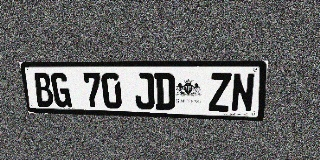0: (101, 72, 122, 109)
7: (82, 72, 103, 108)
B: (33, 72, 54, 107)
D: (154, 73, 175, 110)
G: (50, 72, 72, 107)
J: (134, 73, 155, 110)
N: (231, 73, 255, 113)
Z: (209, 73, 232, 112)
